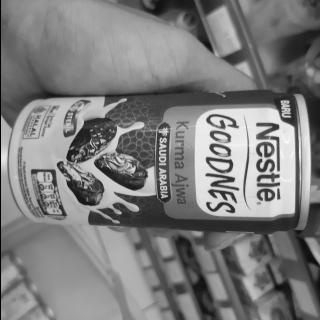alumunium_can: (10, 78, 318, 230)
